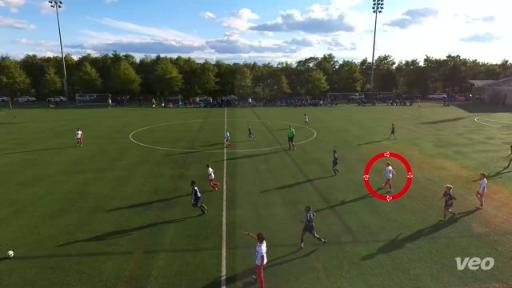highlight_overlay: (364, 151, 415, 204)
